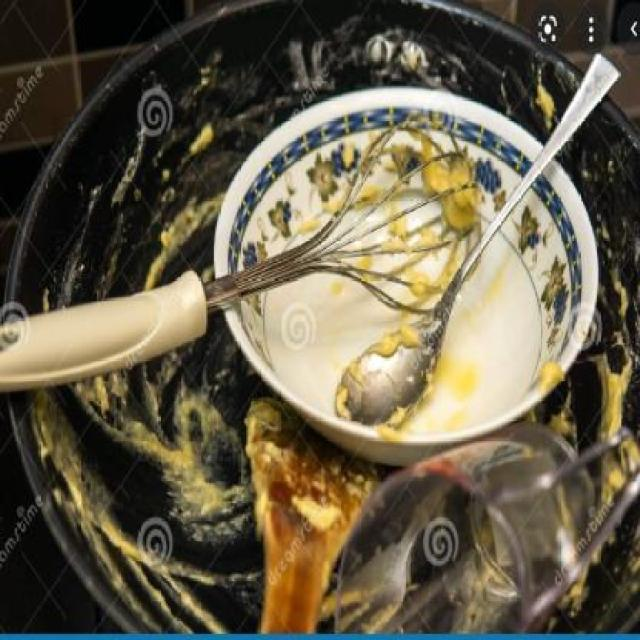Bowl: (220, 89, 597, 449)
